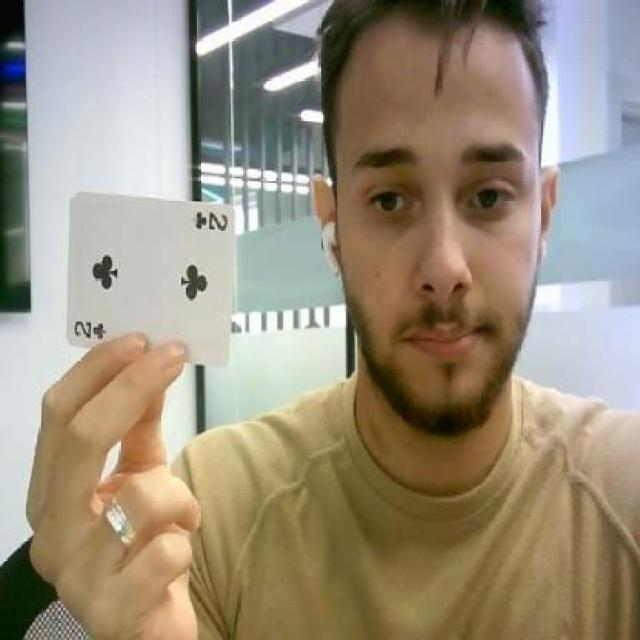2C: (70, 317, 107, 338), (192, 212, 228, 230)
